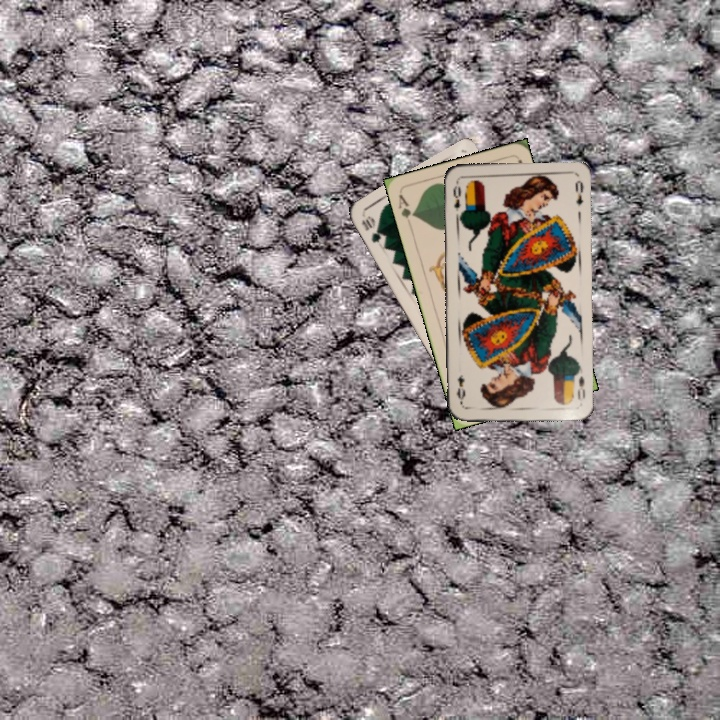EO: (449, 177, 463, 213), (573, 372, 587, 402)
G10: (357, 212, 384, 245)
GA: (394, 190, 418, 230)
